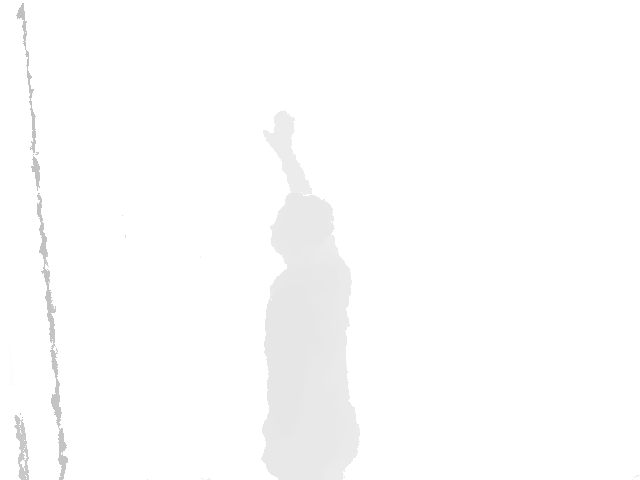hand: (263, 110, 296, 155)
head: (269, 192, 335, 268)
person: (260, 110, 361, 480)
